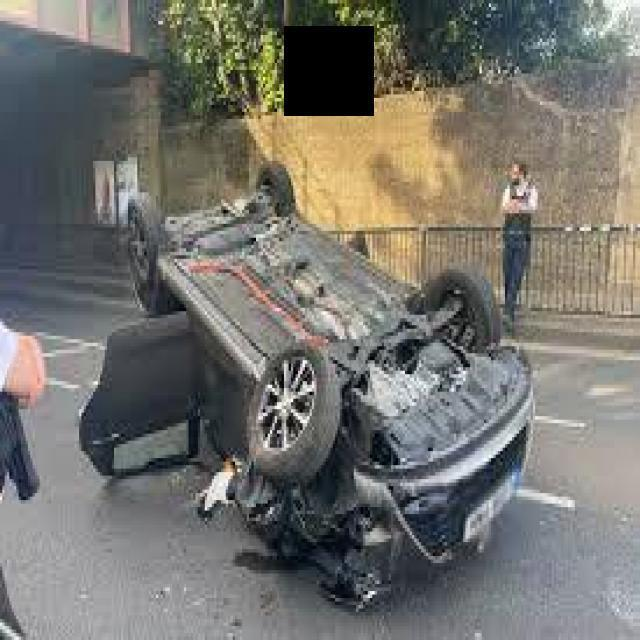accident: (71, 154, 539, 595)
